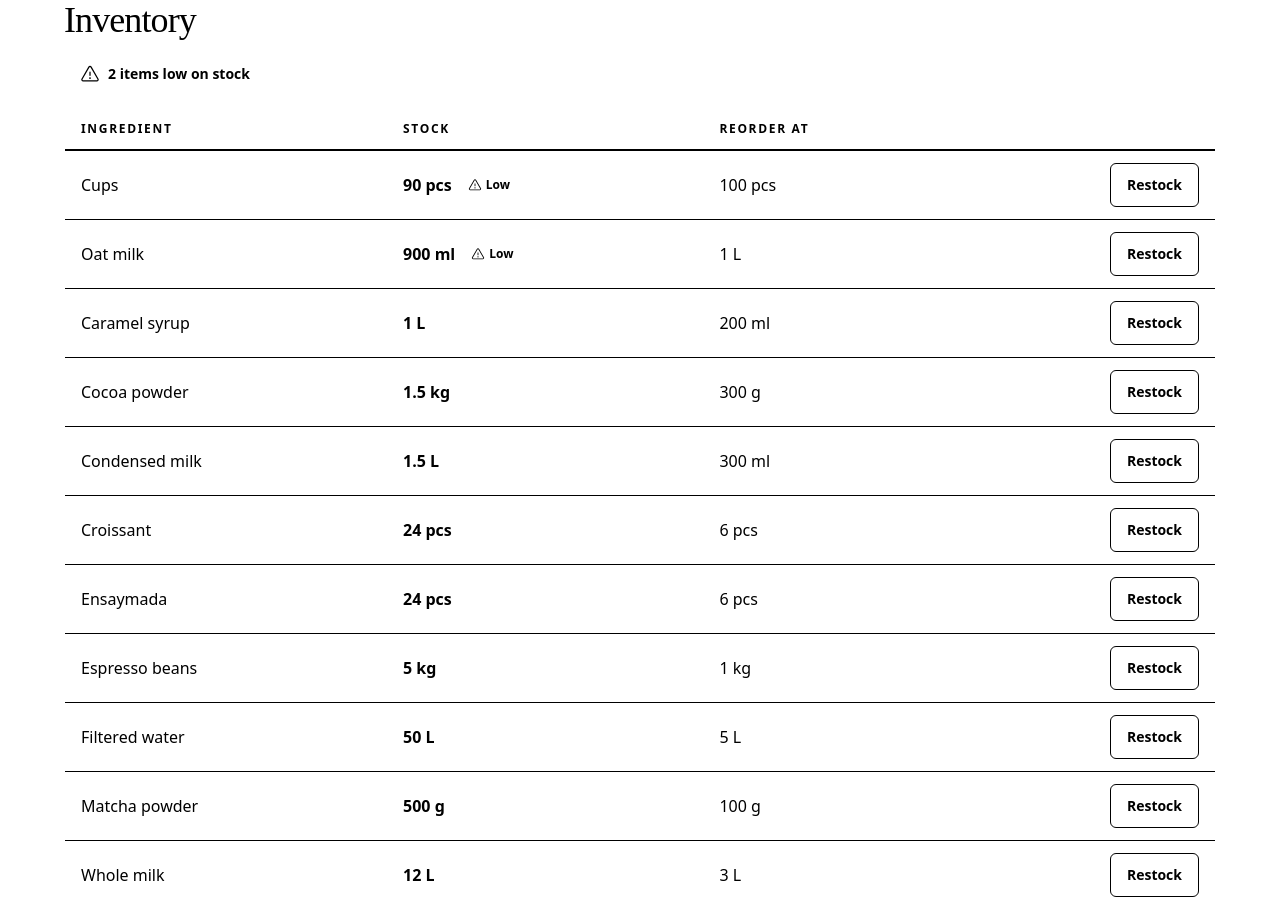
Scenario: Inventory › restocking oat milk by 1000 raises its stock and clears its Low badge
Expected: the text "900 ml" is shown, top-left (403, 242), bottom-right (455, 266)
Expected: the text "Low" next to "900 ml" is shown, top-left (489, 245), bottom-right (514, 262)
Click the button "Restock" in the row of "Oat milk": [1154, 254] box top-left (1110, 232), bottom-right (1199, 276)
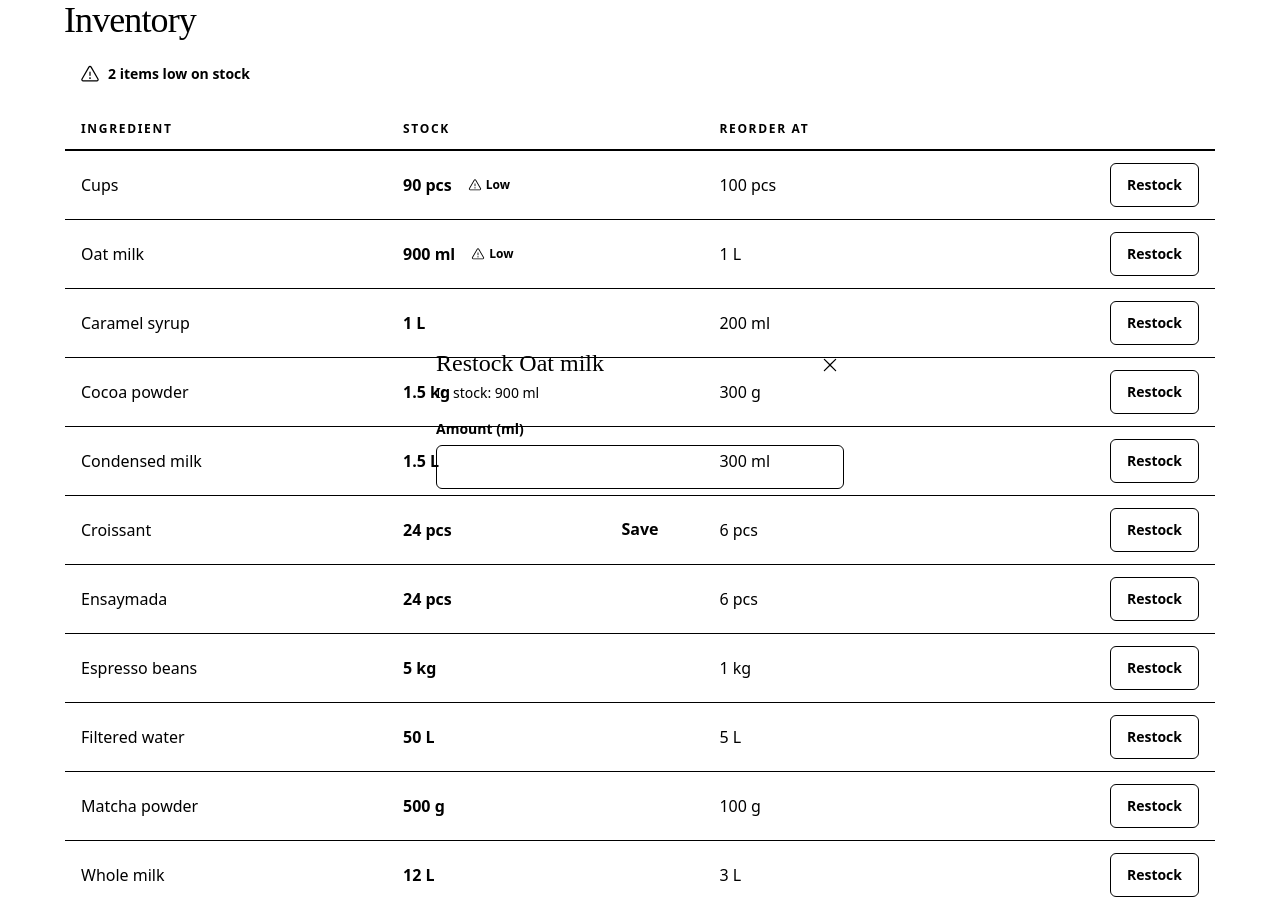
In the field labelled "Amount (ml)": [640, 467] box top-left (436, 445), bottom-right (844, 489), type "1000"
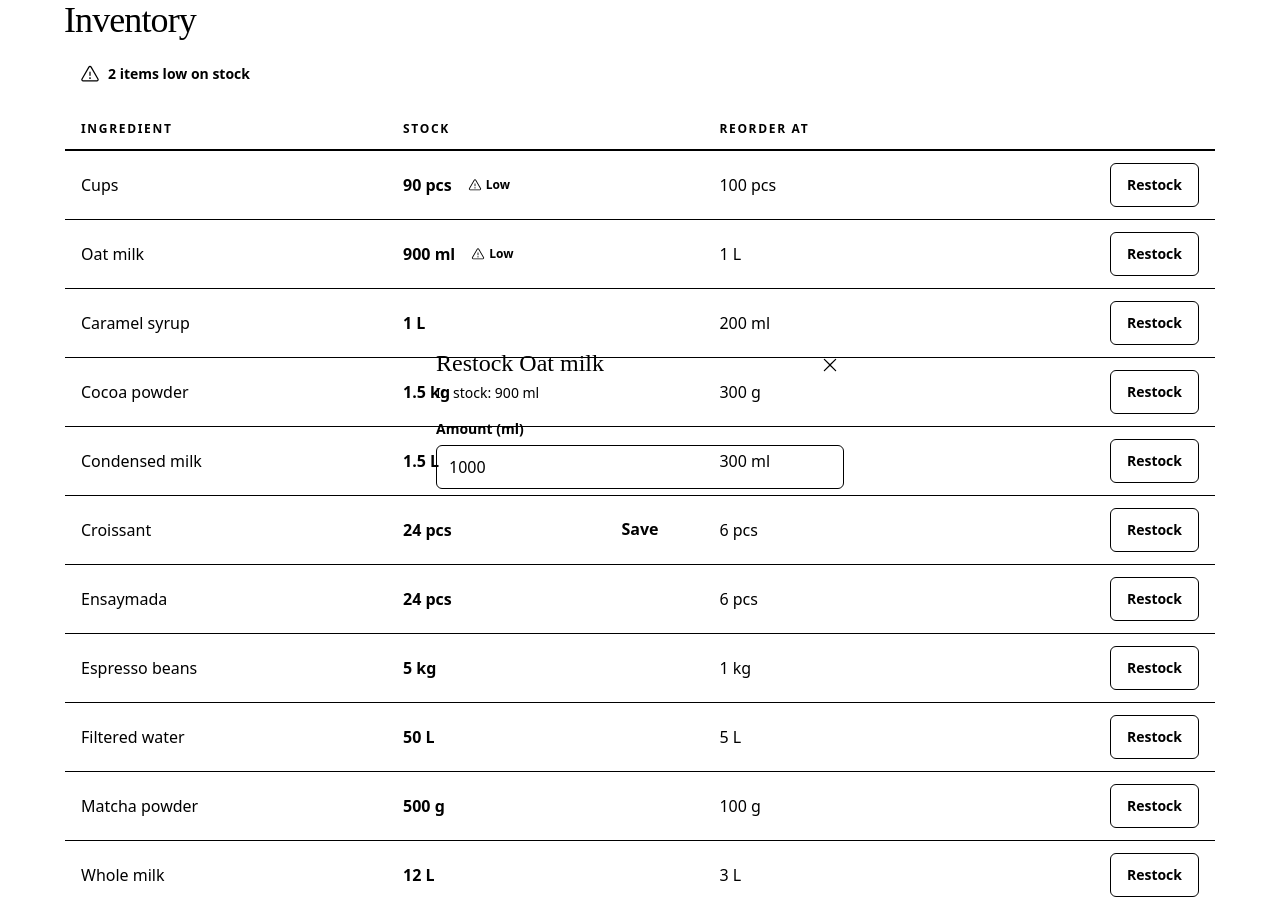
Click the button "Save": [640, 529] box top-left (436, 505), bottom-right (844, 553)
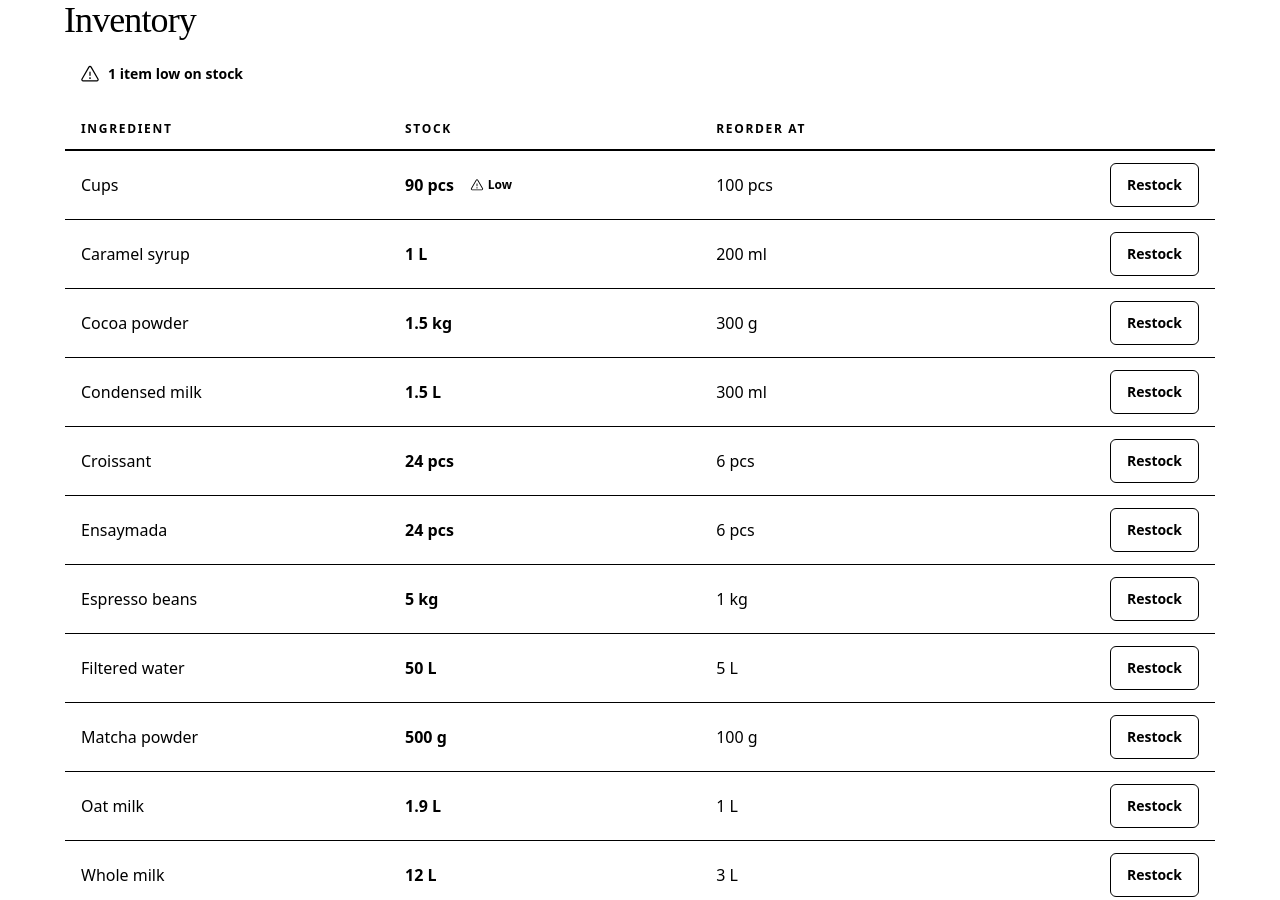
Expected: the text "1.9 L" is shown, top-left (405, 794), bottom-right (441, 818)
Expected: the text "1 item low on stock" is shown, top-left (80, 64), bottom-right (243, 84)
